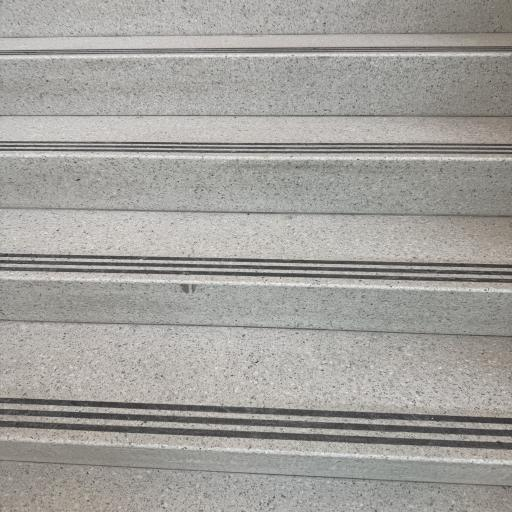Stairs: (0, 0, 512, 512), (0, 322, 512, 485), (0, 209, 512, 335), (0, 116, 512, 215), (0, 34, 512, 116), (0, 461, 512, 512), (0, 0, 512, 37)
